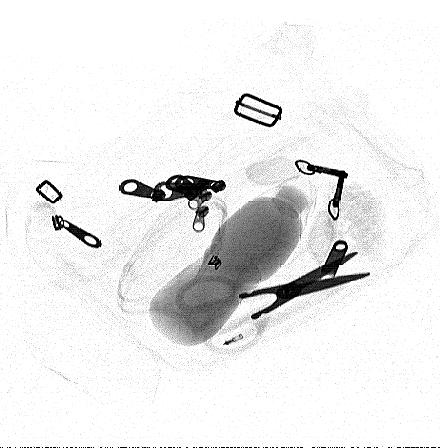Scissors: (170, 246, 371, 359)
